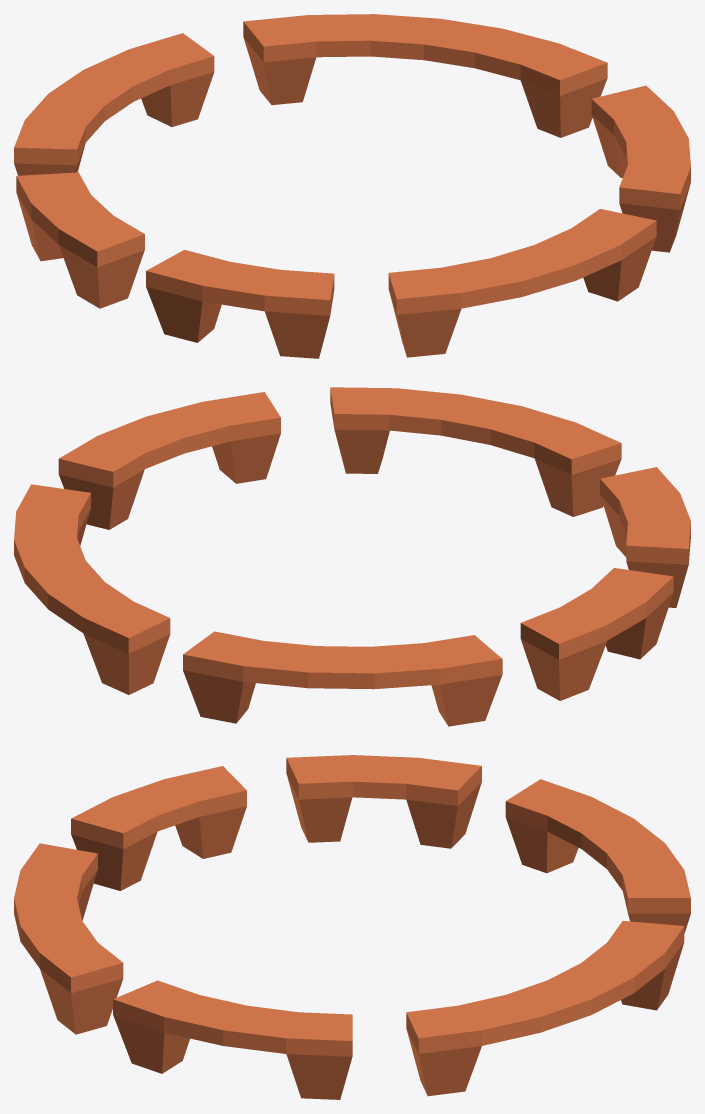
The model's file is MuretCircus.fbx.
The picture shows the model from 3 angles, top to bottom: view 1: azimuth 30°, elevation 25°; view 2: azimuth 150°, elevation 25°; view 3: azimuth 270°, elevation 25°; orthographic projection.
Parts seen in each view (by area): view 1: platform-muralha.001; view 2: platform-muralha.001; view 3: platform-muralha.001.
Boxes of the visible parts, bbox=[...] form: platform-muralha.001: bbox=[14, 14, 690, 358]; platform-muralha.001: bbox=[14, 387, 690, 726]; platform-muralha.001: bbox=[14, 755, 690, 1099].
Bounding box in the file's own units: 10389 × 1097 × 10389.
